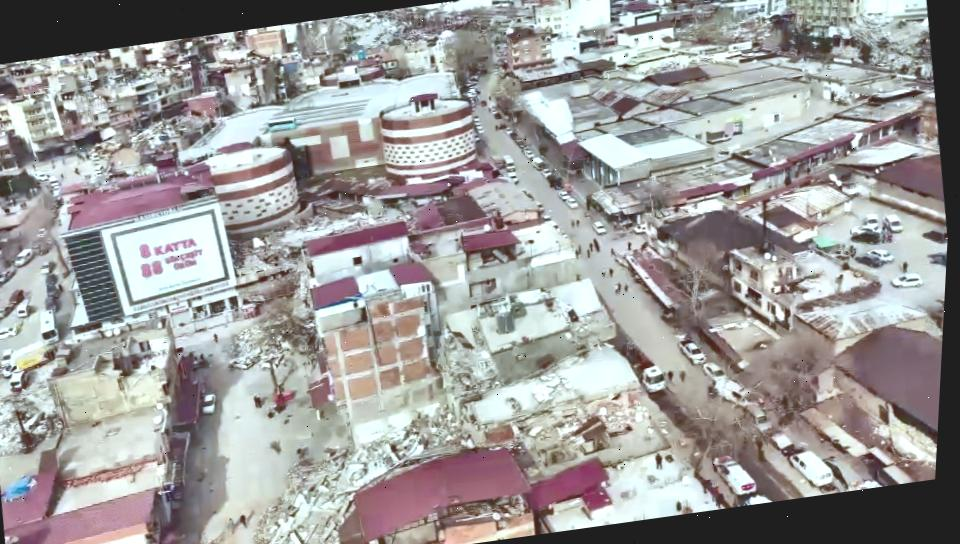kapali: (180, 436, 361, 544)
